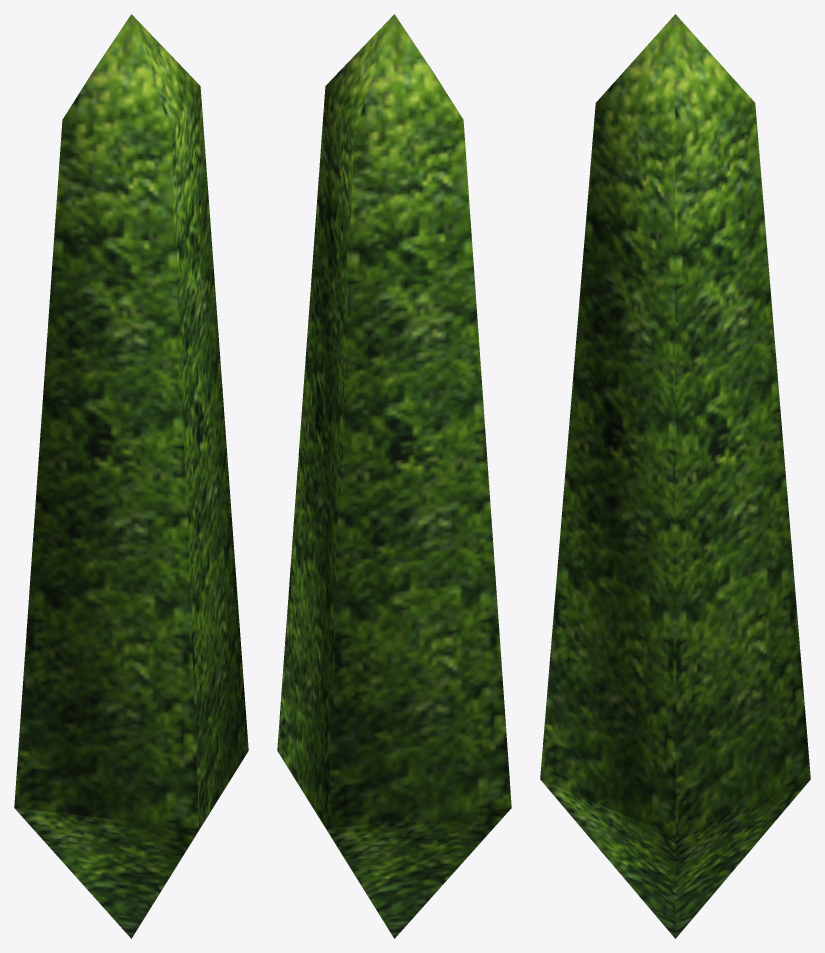
The model's file is SC_guowangchengbao_20.FBX.
The picture shows the model from 3 angles, left to right: view 1: azimuth 30°, elevation 25°; view 2: azimuth 150°, elevation 25°; view 3: azimuth 270°, elevation 25°; orthographic projection.
Parts seen in each view (by area): view 1: SC_guowangchengbao_20; view 2: SC_guowangchengbao_20; view 3: SC_guowangchengbao_20.
Boxes of the visible parts, x1=… form: SC_guowangchengbao_20: x1=14, y1=14, x2=248, y2=938; SC_guowangchengbao_20: x1=277, y1=14, x2=511, y2=938; SC_guowangchengbao_20: x1=540, y1=14, x2=810, y2=938.
Bounding box in the file's own units: 126 × 475 × 126.
